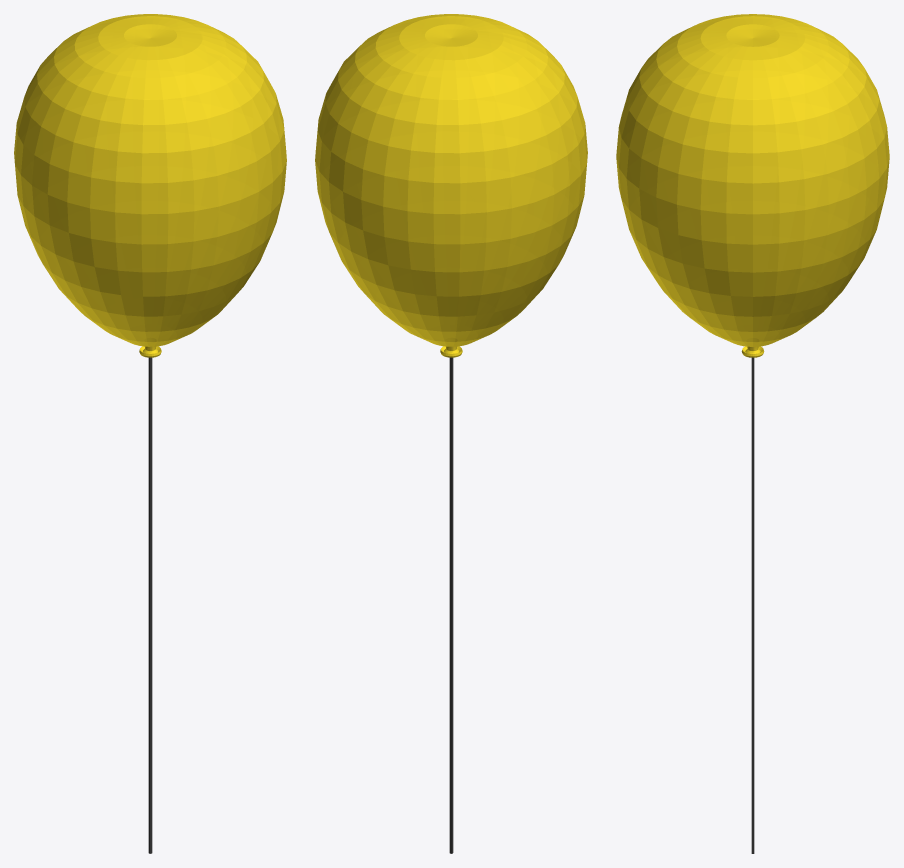
File: baloons22.fbx
The picture shows the model from 3 angles, left to right: view 1: azimuth 30°, elevation 25°; view 2: azimuth 150°, elevation 25°; view 3: azimuth 270°, elevation 25°; orthographic projection.
Visible parts, largest first — view 1: Balloon, Plane; view 2: Balloon, Plane; view 3: Balloon, Plane.
Part boxes in pixels (x1,y1,x2,y2): Balloon: [14, 14, 286, 357]; Plane: [148, 357, 152, 853]; Balloon: [315, 14, 587, 357]; Plane: [449, 357, 453, 853]; Balloon: [616, 14, 889, 357]; Plane: [751, 357, 754, 853].
Size of the model in its own units: 200 by 660 by 200.
